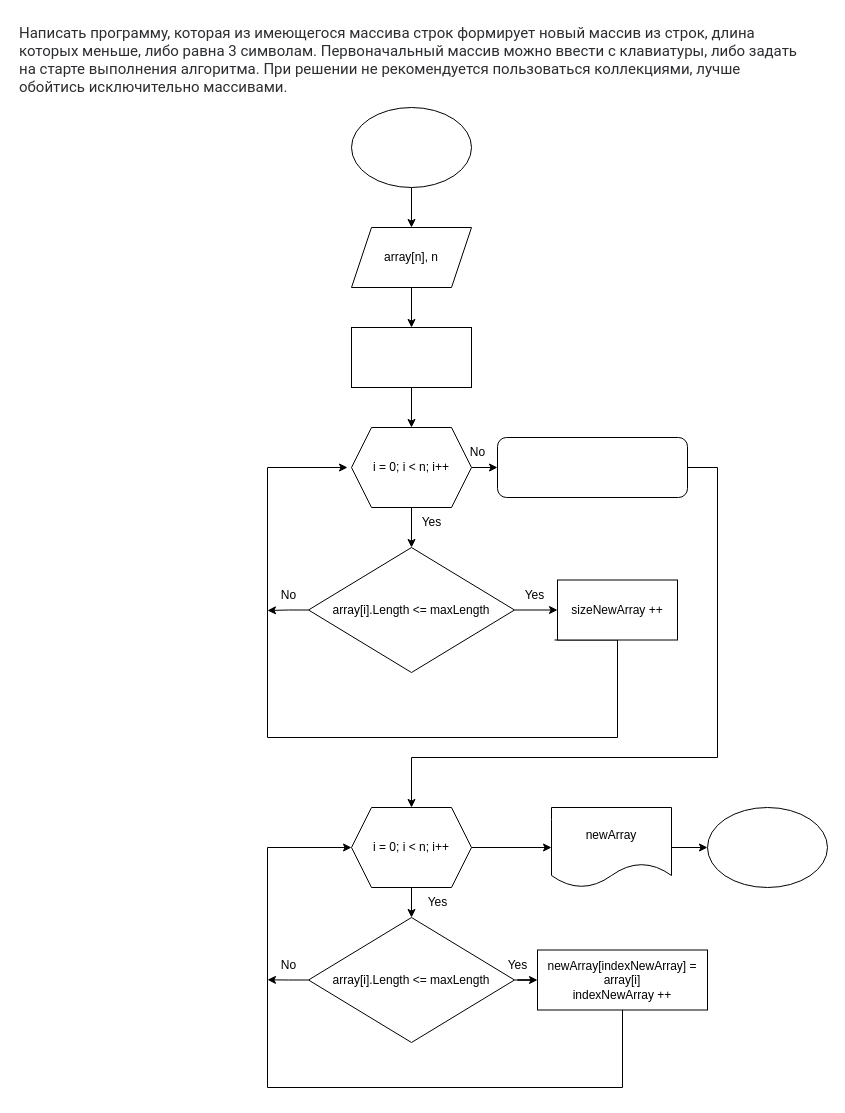
The diagram is 845 pixels wide and 1113 high, and some of its shapes have lost their labels. The shapes that lost their labels are listed below. From the top down, each one's box as (x1, y1, x2, y2) in pixels, then its label:
(350, 106, 472, 188): Start
(350, 326, 472, 388): maxLength = 3 sizeNewArray = 0
(496, 436, 688, 498): newArray = new [sizeNewArray] indexNewArray = 0
(706, 806, 828, 888): Finish
